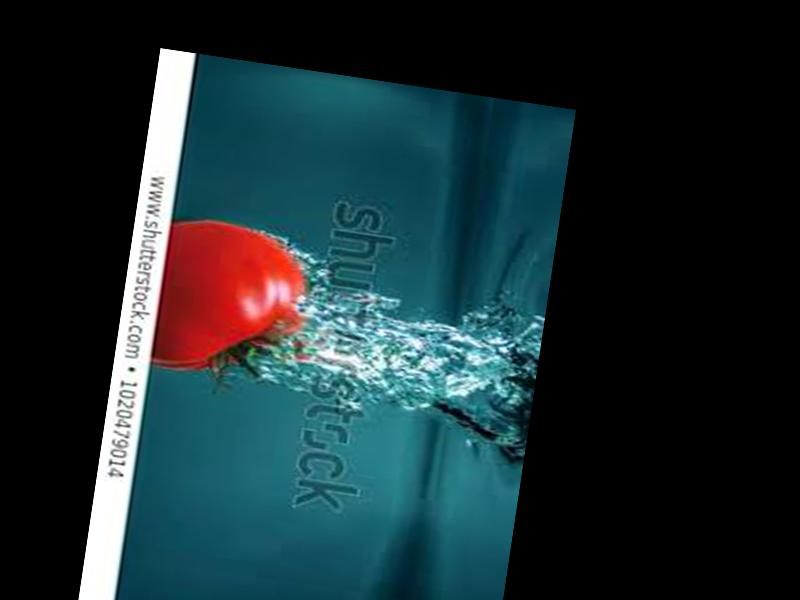Tomato: (149, 215, 314, 387)
